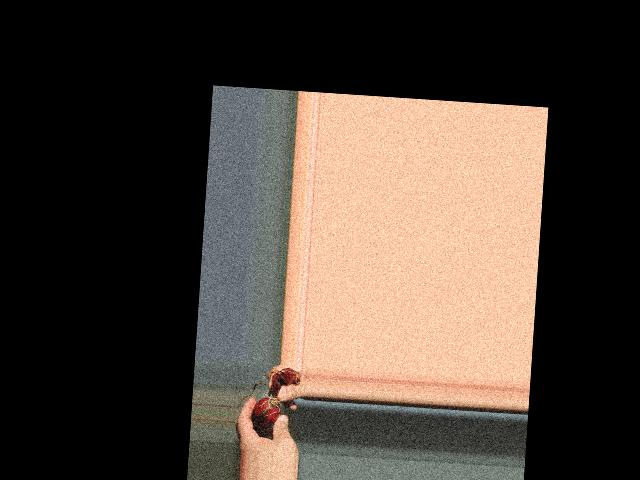onion: (252, 396, 281, 425)
